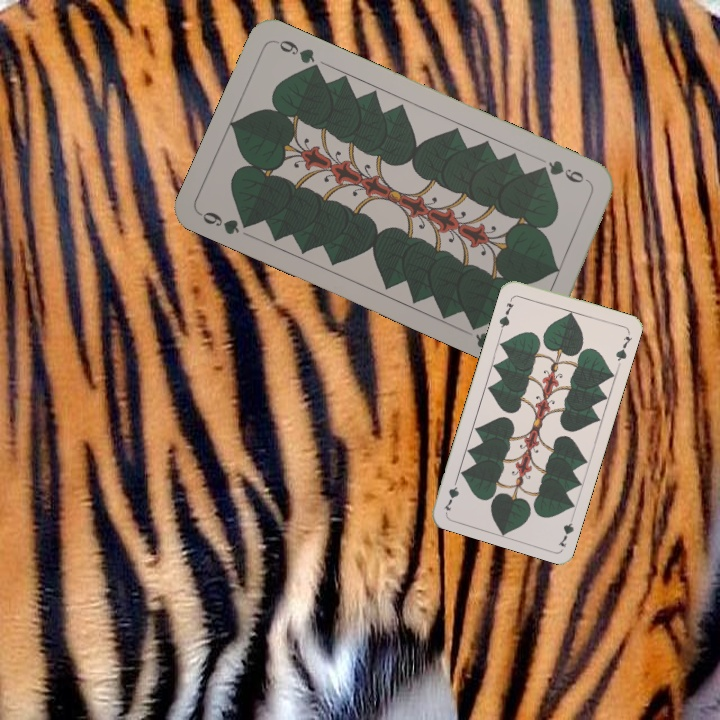G7: (554, 510, 577, 550), (495, 299, 516, 333)
G9: (534, 156, 593, 187), (196, 207, 256, 237)
